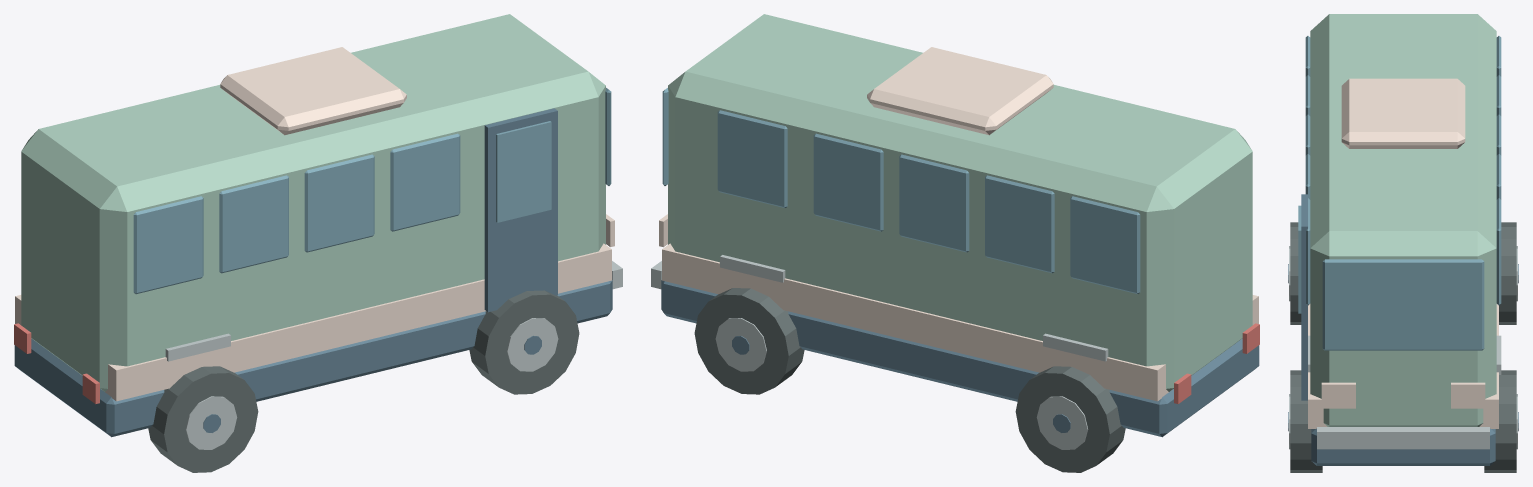
File: bus.glb
3 renders of one model, left to right at view 1: azimuth 30°, elevation 25°; view 2: azimuth 150°, elevation 25°; view 3: azimuth 270°, elevation 25°, orthographic. The views are drawn at different scales.
Visible parts, largest first — view 1: bus_navy; view 2: bus_navy; view 3: bus_navy.
Boxes of the visible parts, left/top/right/bottom form: bus_navy: left=14, top=14, right=622, bottom=472; bus_navy: left=651, top=14, right=1259, bottom=472; bus_navy: left=1288, top=14, right=1518, bottom=472.
Size of the model in its own units: 2.99 by 1.68 by 1.21.
Materials: 1 (1 with a texture image).
